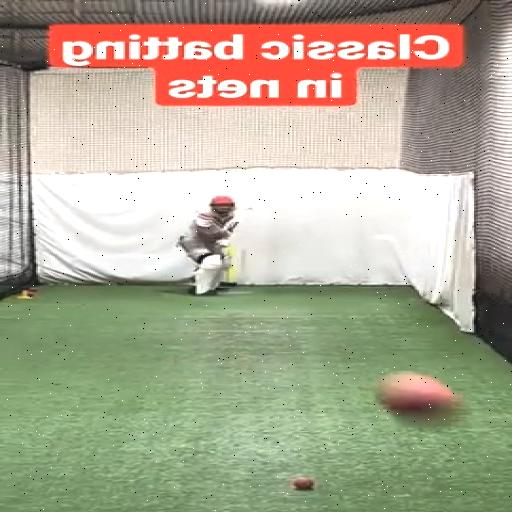Cricket bat: (229, 208, 248, 231)
